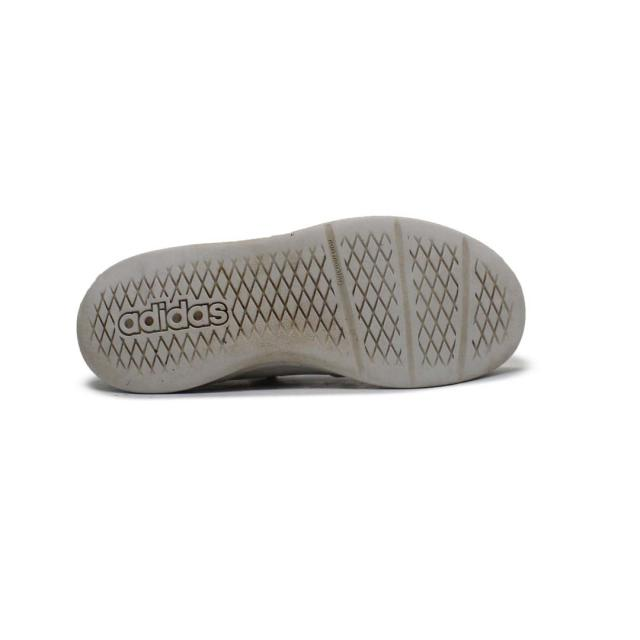outersole: (69, 221, 531, 386)
